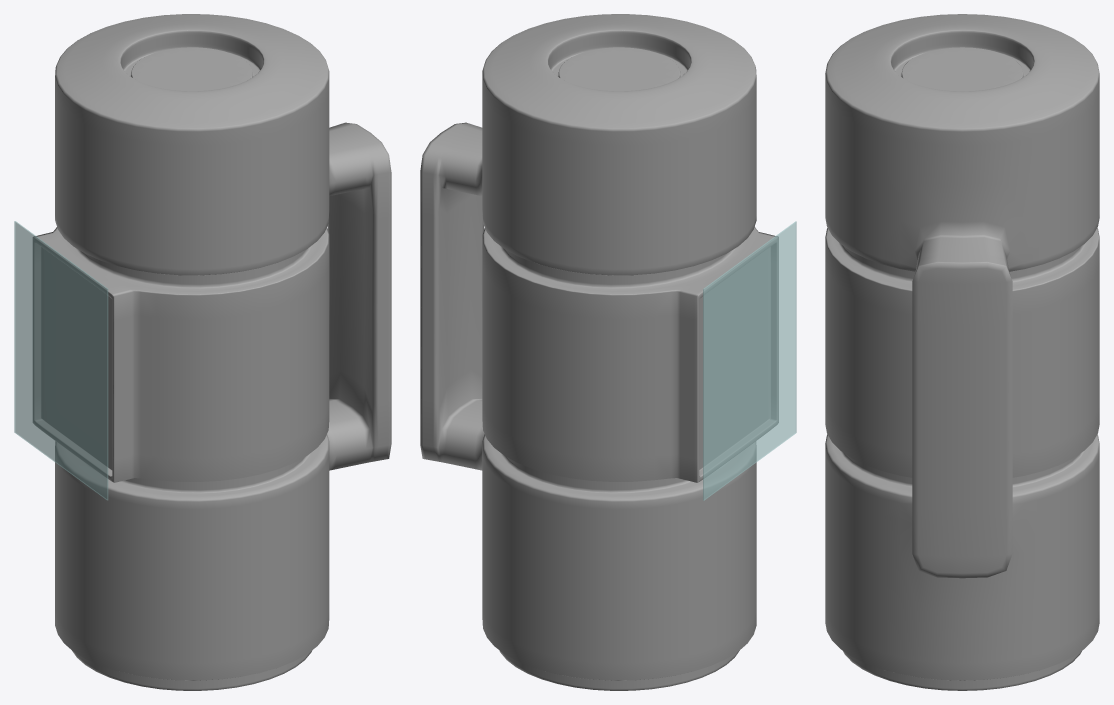
The model's file is power_cell.fbx.
3 views of the same model, side by side, from view 1: azimuth 30°, elevation 25°; view 2: azimuth 150°, elevation 25°; view 3: azimuth 270°, elevation 25° (orthographic).
Visible parts, largest first — view 1: pCylinder1, pCube1; view 2: pCylinder1, pCube1; view 3: pCylinder1.
Part boxes in pixels (bbox=[...]): pCylinder1: bbox=[33, 14, 391, 690]; pCube1: bbox=[14, 221, 108, 500]; pCylinder1: bbox=[420, 14, 778, 690]; pCube1: bbox=[703, 221, 796, 500]; pCylinder1: bbox=[825, 14, 1099, 690].
Bounding box in the file's own units: 12.83 × 22.79 × 9.8.
